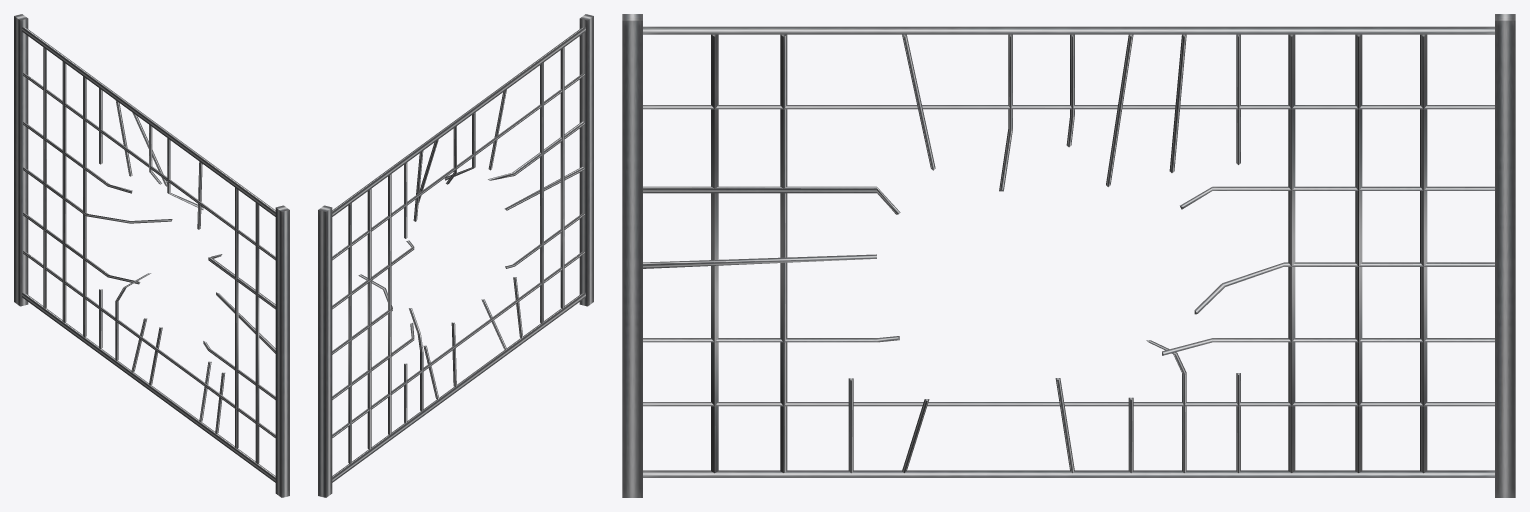
Rendered from fence.FBX.
3 views of the same model, side by side, from view 1: azimuth 30°, elevation 25°; view 2: azimuth 150°, elevation 25°; view 3: azimuth 270°, elevation 25° (orthographic). The views are drawn at different scales.
Parts seen in each view (by area): view 1: fence; view 2: fence; view 3: fence.
Boxes of the visible parts, x1,y1,x2,y2 form: fence: (14,14,289,497); fence: (318,14,593,497); fence: (622,14,1515,497).
Size of the model in its own units: 0.00016 by 0.000689 by 0.00117.
1 material, 1 textured.
